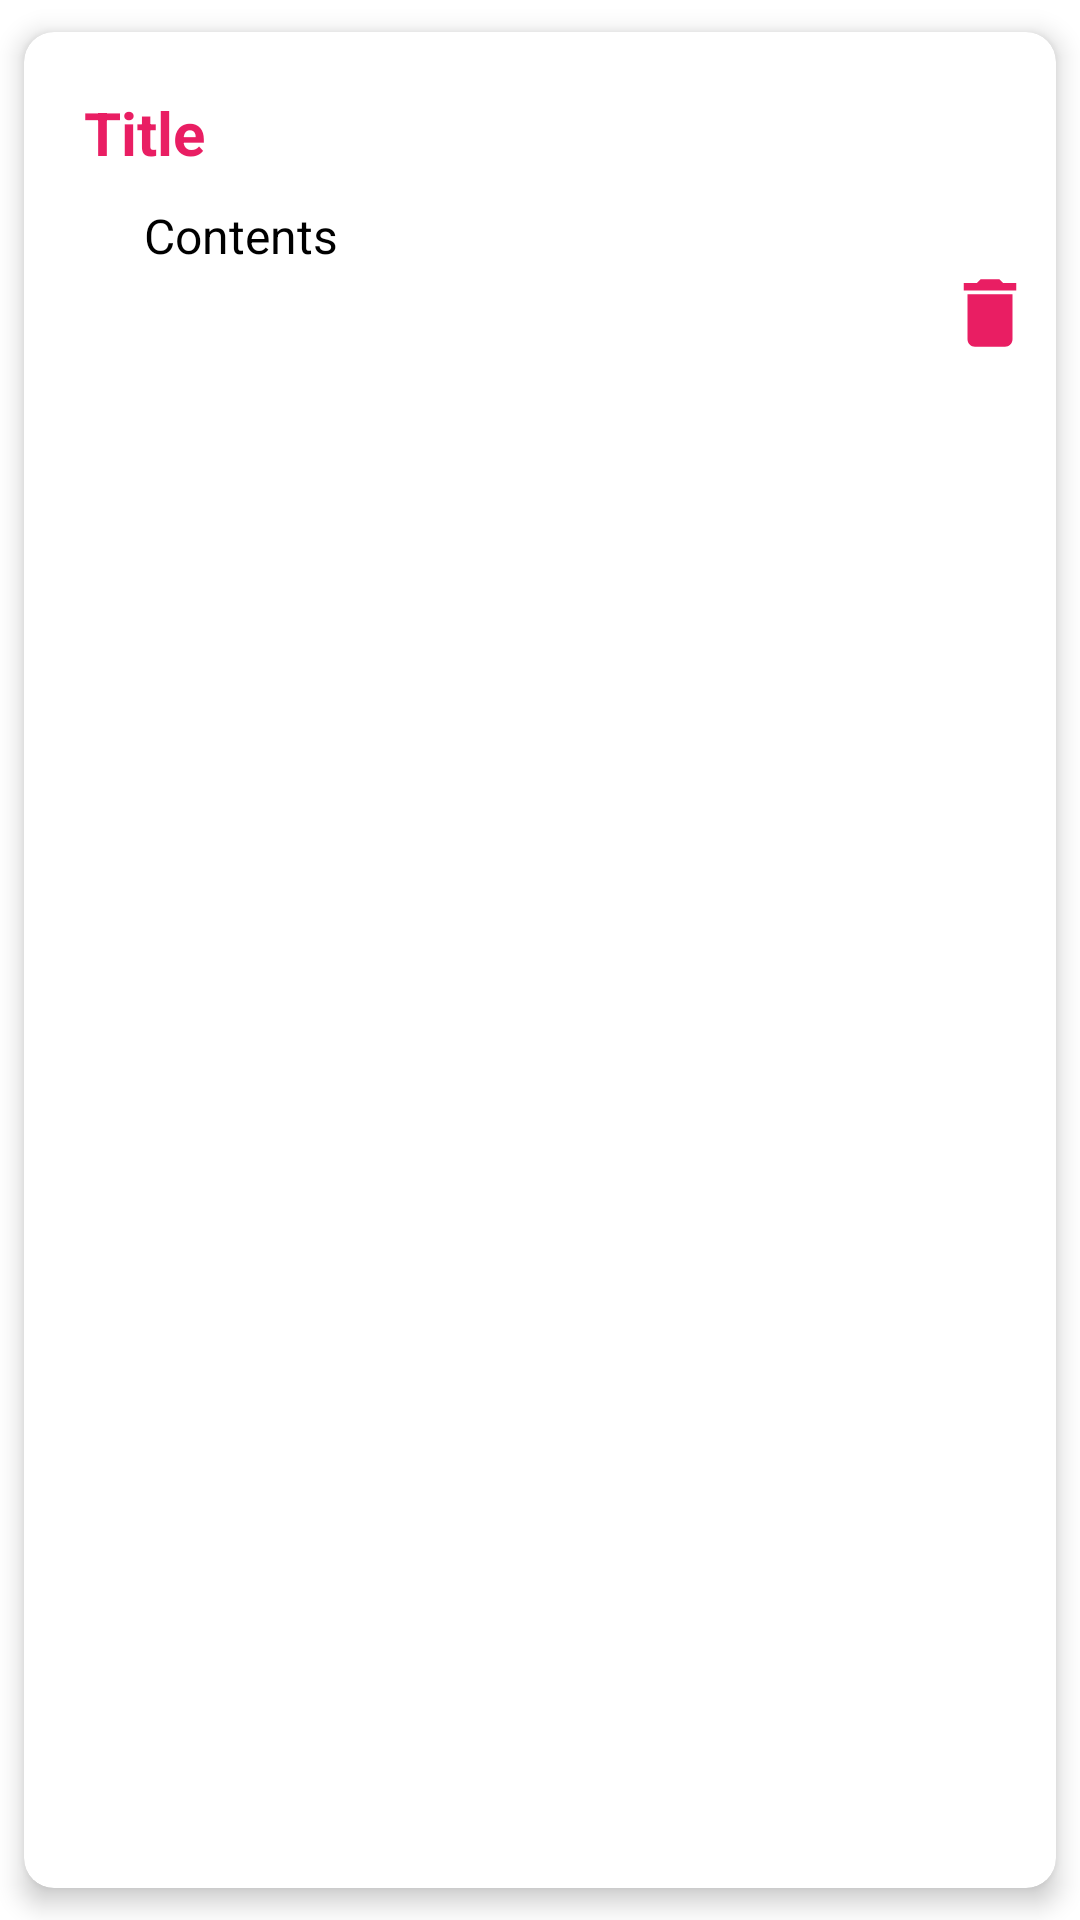

Icon click points for this 1080px×1920px phone screenshot, format (x,y):
Delete Note: (990,313)
